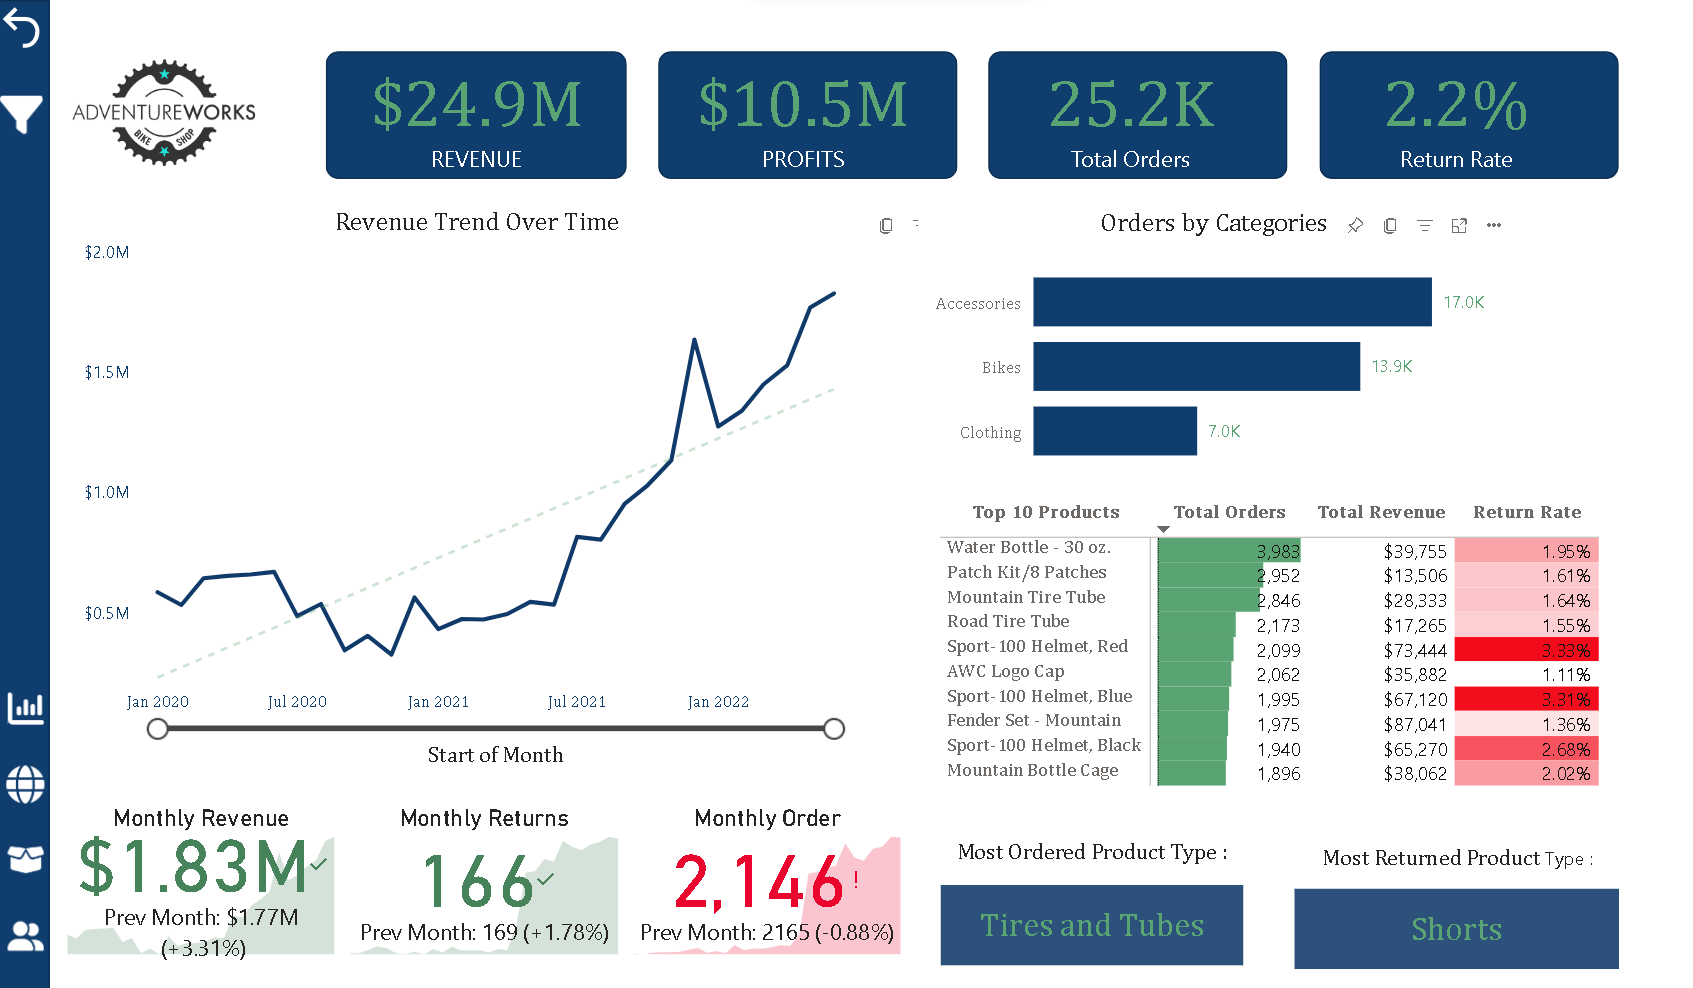

This screenshot's page, from the dashboard's own definition file:
{"tool":"powerbi","page":{"name":"Executive Dashboard","canvas":[1280,720],"ordinal":0},"visuals":[{"type":"shape","title":"Left Nav bar","box":[0,0,42.1,720],"z":0,"group":"g6"},{"type":"card","fields":{"Values":["Measure Table.Total Orders"]},"box":[707.3,13.4,242,138.1],"z":0,"group":"g3"},{"type":"group","id":"g1","title":"KPI GROUP","box":[243.2,36.6,940,92.9],"z":0,"group":"g2"},{"type":"shape","box":[243.2,36.6,218.8,92.9],"z":0,"group":"g1"},{"type":"image","box":[31.8,36.7,187,91.7],"z":0},{"type":"actionButton","box":[3.6,378.9,34.7,37.9],"z":0,"group":"g5"},{"type":"actionButton","box":[6.7,496.8,34.7,37.9],"z":0,"group":"g4"},{"type":"group","id":"g2","title":"KPI GROUPS","box":[232.2,13.4,954.7,138.1],"z":1000},{"type":"group","id":"g3","title":"KPI VALUES","box":[232.2,13.4,954.7,138.1],"z":1000,"group":"g2"},{"type":"card","fields":{"Values":["Measure Table.Return Rate"]},"box":[944.9,13.4,242,138.1],"z":1000,"group":"g3"},{"type":"shape","box":[965.6,36.6,217.6,92.9],"z":1000,"group":"g1"},{"type":"group","id":"g4","title":"Group 1","box":[6.2,496.8,35.8,203.2],"z":1000,"group":"g6"},{"type":"actionButton","box":[3.6,544.2,34.7,37.9],"z":1000,"group":"g5"},{"type":"actionButton","box":[6.7,662.1,34.7,37.9],"z":1000,"group":"g4"},{"type":"card","fields":{"Values":["Measure Table.Total Profit"]},"box":[469.8,13.4,242,138.1],"z":2000,"group":"g3"},{"type":"shape","box":[725.2,36.6,217.6,92.9],"z":2000,"group":"g1"},{"type":"actionButton","box":[0,63.3,42.2,39.7],"z":2000,"group":"g6"},{"type":"lineChart","title":"Revenue Trend Over Time","fields":{"Y":["Measure Table.Total Revenue"],"Category":["Calendar Lookup.Year","Calendar Lookup.Start of Quarter","Calendar Lookup.Start of Month"]},"box":[64,151.2,577.9,410.5],"z":2000},{"type":"actionButton","box":[3.6,489.1,34.7,37.9],"z":2000,"group":"g5"},{"type":"actionButton","box":[6.7,607,34.7,37.9],"z":2000,"group":"g4"},{"type":"card","fields":{"Values":["Measure Table.Total Revenue"]},"box":[232.2,13.4,242,138.1],"z":3000,"group":"g3"},{"type":"shape","box":[484.8,36.6,217.6,92.9],"z":3000,"group":"g1"},{"type":"actionButton","box":[3.1,434,35.8,37.9],"z":3000,"group":"g5"},{"type":"actionButton","box":[6.2,551.9,35.8,37.9],"z":3000,"group":"g4"},{"type":"kpi","title":"Monthly Revenue","fields":{"Indicator":["Measure Table.Total Revenue"],"TrendLine":["Calendar Lookup.Start of Month"],"Goal":["Measure Table.Previous Month Revenue"]},"box":[50.1,584.3,204.1,114.9],"z":3000},{"type":"kpi","title":"Monthly Order","fields":{"TrendLine":["Calendar Lookup.Start of Month"],"Indicator":["Measure Table.Total Orders"],"Goal":["Measure Table.Previous Month Orders"]},"box":[462.1,584.3,204.1,114.9],"z":4000},{"type":"kpi","title":"Monthly Returns","fields":{"TrendLine":["Calendar Lookup.Start of Month"],"Goal":["Measure Table.Previous Month Returns"],"Indicator":["Measure Table.Total Returns"]},"box":[255.5,584.3,205.4,114.9],"z":5000},{"type":"barChart","title":"Orders by Categories ","fields":{"Category":["Product Categories Lookup.CategoryName"],"Y":["Measure Table.Total Orders"]},"box":[673.5,151.6,430.3,205.4],"z":6000},{"type":"pivotTable","fields":{"Rows":["Product Lookup.ProductName"],"Values":["Measure Table.Total Orders","Measure Table.Total Revenue","Measure Table.Return Rate"]},"box":[684.5,360.6,498.7,231],"z":7000},{"type":"textbox","box":[690.2,605.8,220,37.9],"z":8000},{"type":"card","fields":{"Values":["Min(Product Subcategories Lookup.SubcategoryName)"]},"box":[690.2,643.7,220,58.7],"z":9000},{"type":"textbox","box":[947.6,610,238.4,36.7],"z":10000},{"type":"card","fields":{"Values":["Min(Product Subcategories Lookup.SubcategoryName)"]},"box":[947.4,646.6,235.9,58.7],"z":11000},{"type":"actionButton","box":[0.5,0,25,36],"z":12000},{"type":"group","id":"g5","title":"Group 1","box":[3.1,378.9,35.8,203.2],"z":13000},{"type":"group","id":"g6","title":"Group 2","box":[0,0,42.2,720],"z":14000},{"type":"actionButton","box":[0,0,42.2,39.7],"z":15000}]}

Visuals, with their boxes on the page's 1280x720 design canvas (x1, y1, x2, y2). These are canvas units, not pixel positions in the 1693x988 screenshot, which may show the page scaled, cropped or inside an application window:
"Left Nav bar" shape: 0 0 42 720
card - Measure Table.Total Orders: 707 13 949 152
"KPI GROUP" group: 243 37 1183 130
shape: 243 37 462 130
image: 32 37 219 128
actionButton: 4 379 38 417
actionButton: 7 497 41 535
"KPI GROUPS" group: 232 13 1187 152
"KPI VALUES" group: 232 13 1187 152
card - Measure Table.Return Rate: 945 13 1187 152
shape: 966 37 1183 130
"Group 1" group: 6 497 42 700
actionButton: 4 544 38 582
actionButton: 7 662 41 700
card - Measure Table.Total Profit: 470 13 712 152
shape: 725 37 943 130
actionButton: 0 63 42 103
"Revenue Trend Over Time" lineChart: 64 151 642 562
actionButton: 4 489 38 527
actionButton: 7 607 41 645
card - Measure Table.Total Revenue: 232 13 474 152
shape: 485 37 702 130
actionButton: 3 434 39 472
actionButton: 6 552 42 590
"Monthly Revenue" kpi: 50 584 254 699
"Monthly Order" kpi: 462 584 666 699
"Monthly Returns" kpi: 256 584 461 699
"Orders by Categories " barChart: 674 152 1104 357
pivotTable - Product Lookup.ProductName x Measure Table.Total Orders: 684 361 1183 592
textbox: 690 606 910 644
card - Min(Product Subcategories Lookup.SubcategoryName): 690 644 910 702
textbox: 948 610 1186 647
card - Min(Product Subcategories Lookup.SubcategoryName): 947 647 1183 705
actionButton: 0 0 26 36
"Group 1" group: 3 379 39 582
"Group 2" group: 0 0 42 720
actionButton: 0 0 42 40
